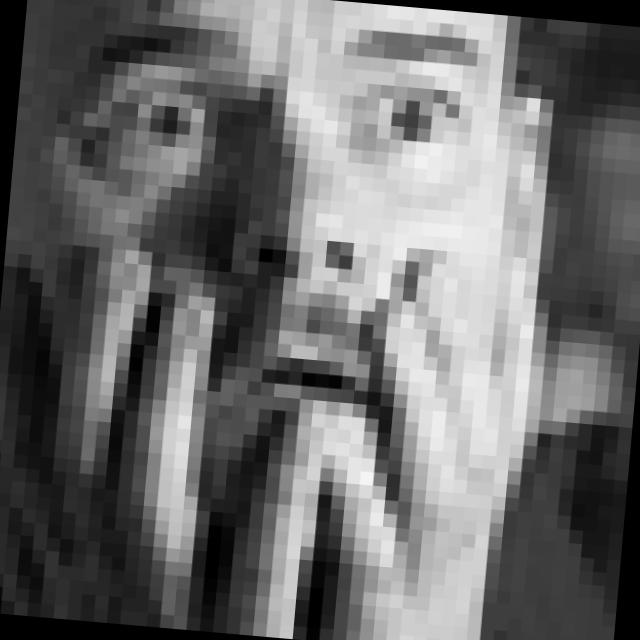fear: (27, 0, 492, 499)
